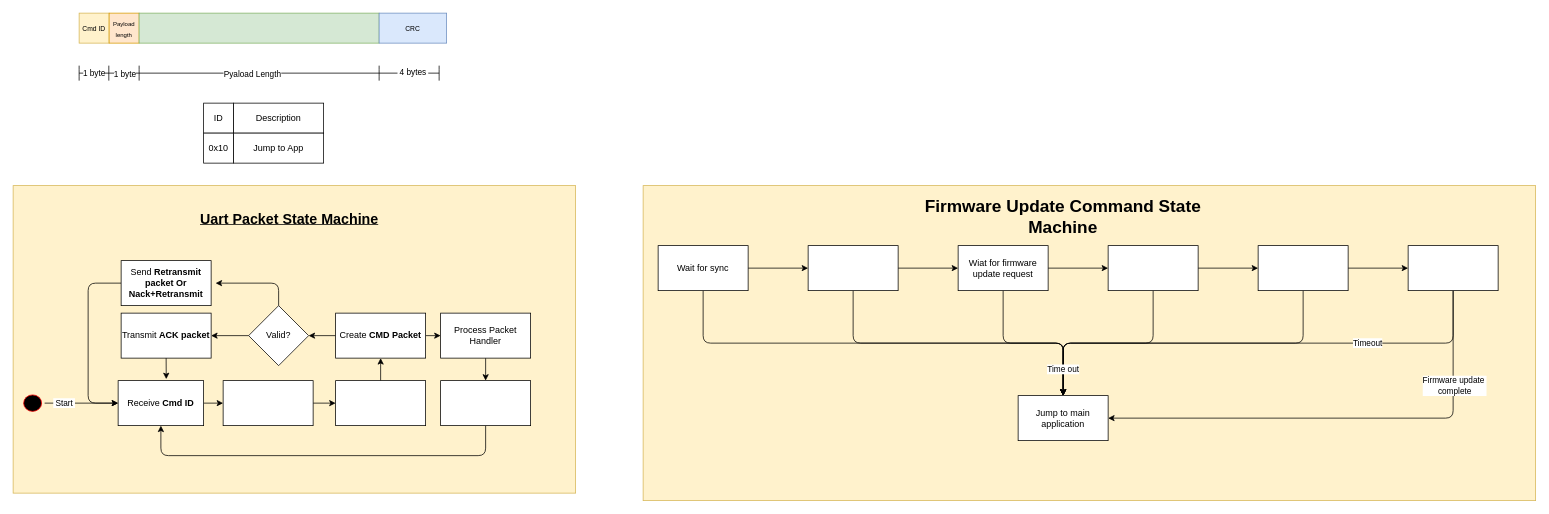
Some shapes in this 1549 by 514 pixel diagram are drawn without their labels. Here are the shapes that lost their labels. From the top down, the centre of each, then its label:
At [258,27]: "Payload".
At [852,268]: "Send sysnced message".
At [1152,268]: "Request firmware Device ID".
At [1302,268]: "Request firmware length".
At [1452,268]: "Receive firmware".
At [267,403]: "Receive length bytes".
At [380,403]: "Receive CRC bytes".
At [485,403]: "Transmit Response".
